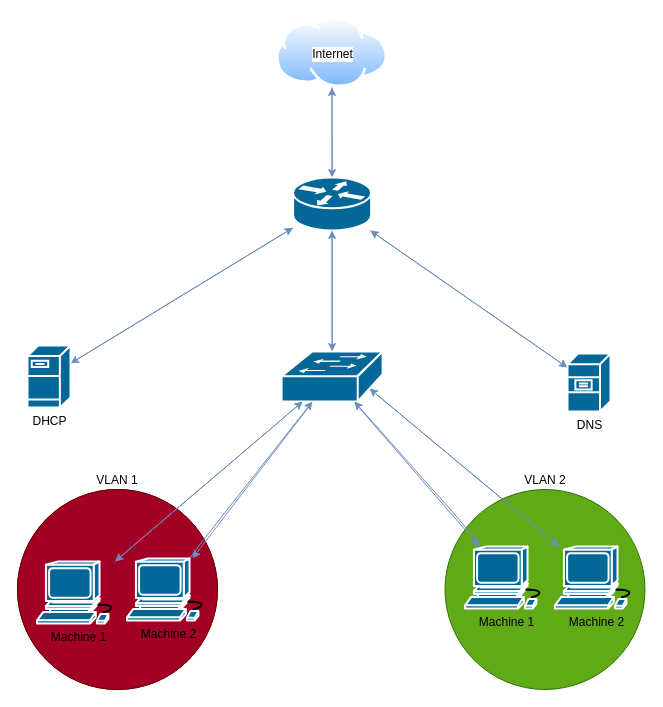
Some shapes in this 663 by 707 pixel diagram are drawn without their labels. Each missing label, with the centre of its shape:
"Routeur" goes at pixel 332 203.
"Switch" goes at pixel 331 376.
